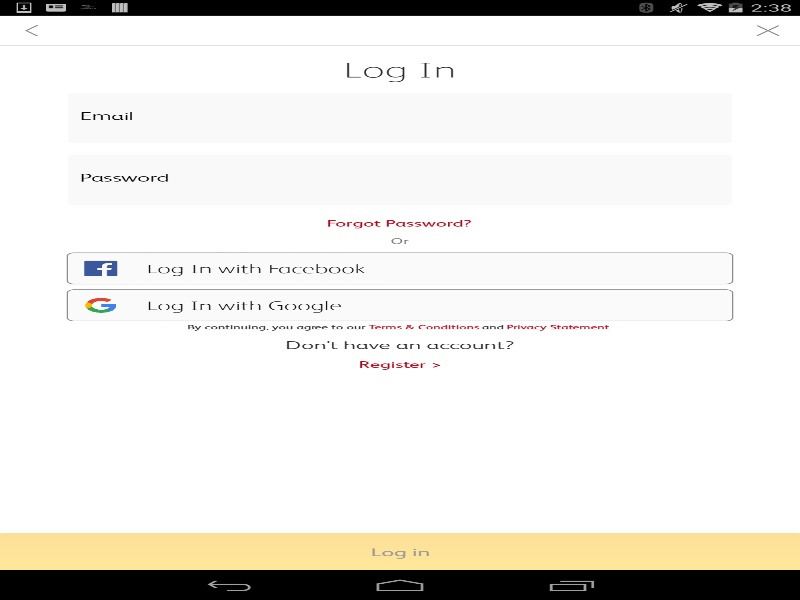Input: (80, 107, 720, 132), (80, 169, 720, 194)
